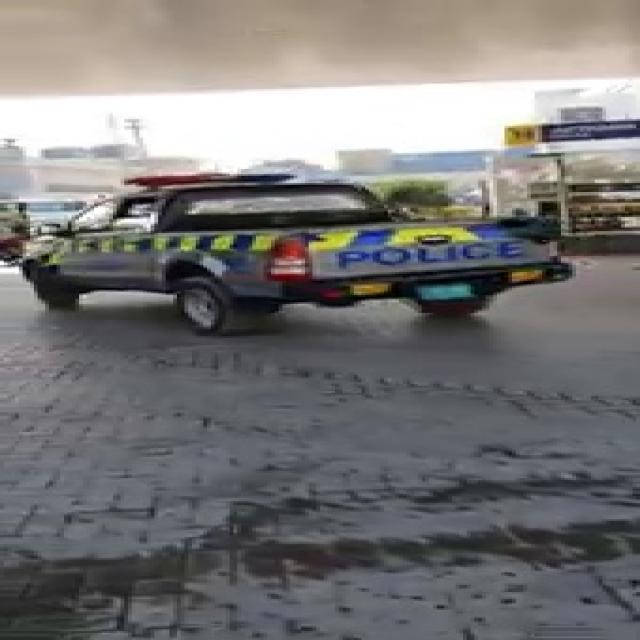police: (0, 178, 526, 339)
